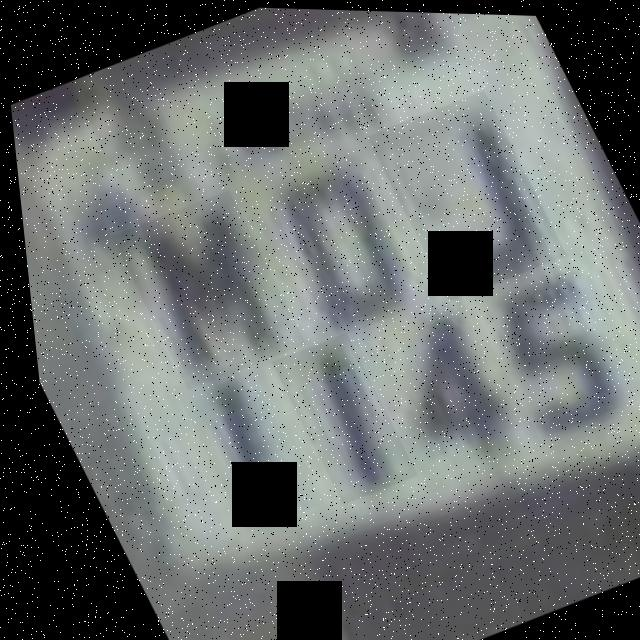1: (261, 328, 410, 504), (162, 356, 309, 533)
4: (333, 269, 539, 493)
5: (446, 239, 640, 450)
J: (360, 84, 565, 301)
M: (101, 186, 303, 392)
